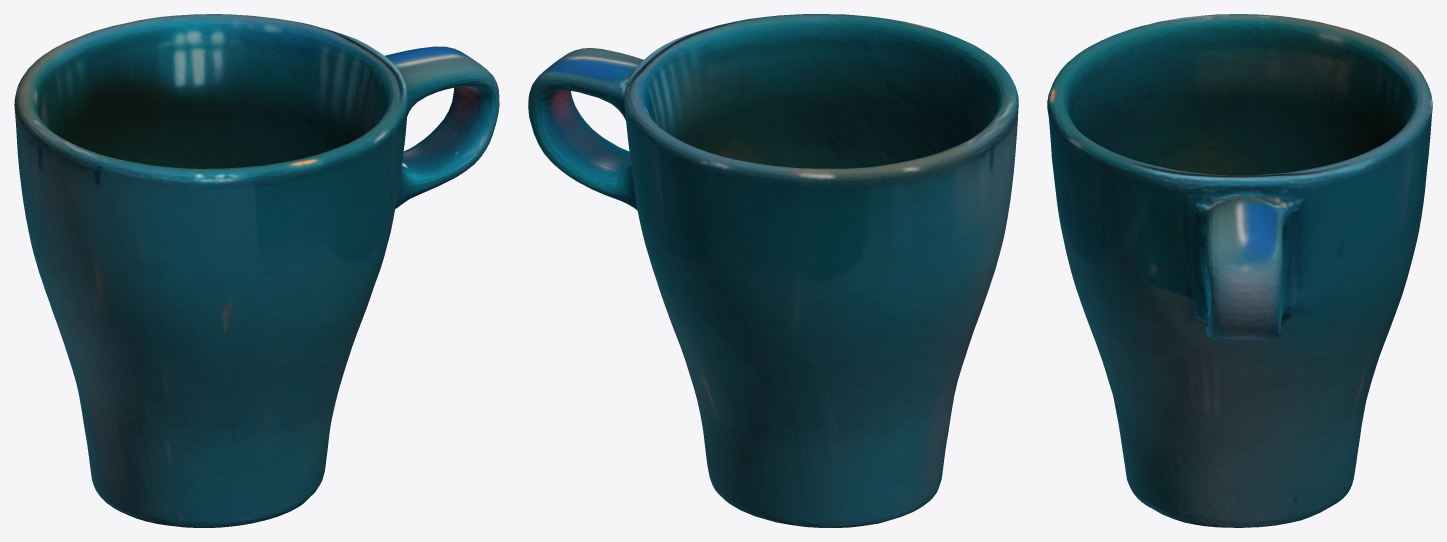
File: final_pot.glb
3 views of the same model, side by side, from view 1: azimuth 30°, elevation 25°; view 2: azimuth 150°, elevation 25°; view 3: azimuth 270°, elevation 25° (orthographic).
Visible parts, largest first — view 1: world; view 2: world; view 3: world.
Part boxes in pixels (x1,y1,x2,y2): world: [14, 14, 499, 527]; world: [528, 14, 1018, 527]; world: [1047, 14, 1432, 527].
Size of the model in its own units: 0.9994 by 0.8244 by 0.7411.
Materials: 1 (1 with a texture image).
